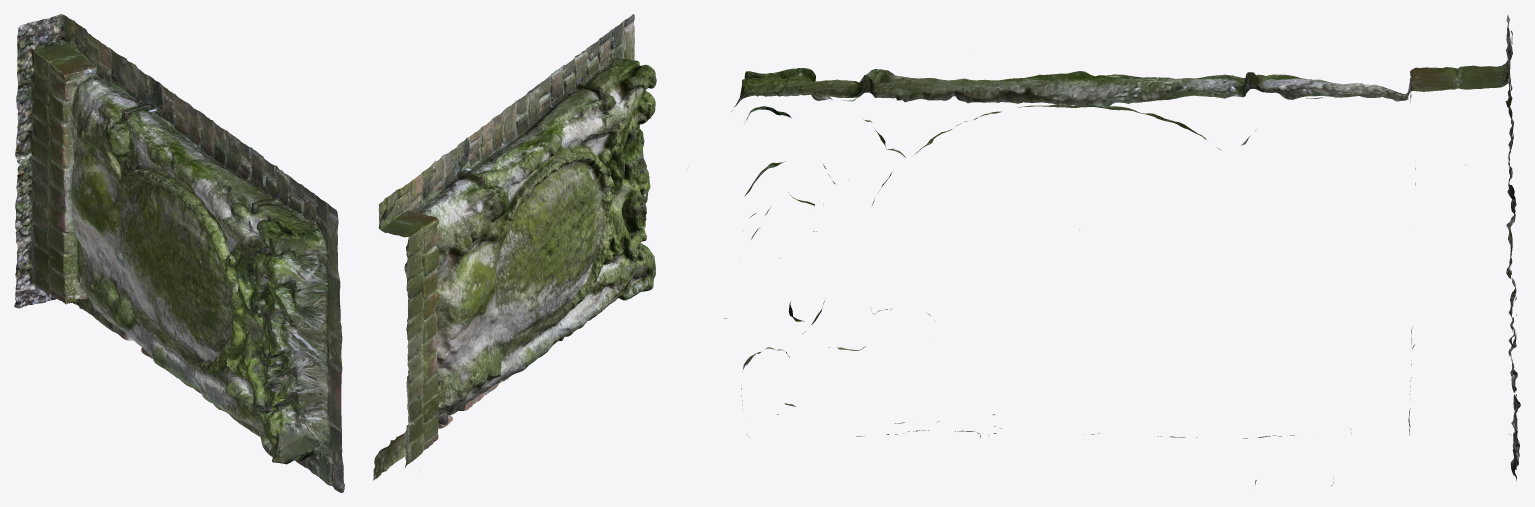
The model's file is stone_tablet_i.glb.
3 views of the same model, side by side, from view 1: azimuth 30°, elevation 25°; view 2: azimuth 150°, elevation 25°; view 3: azimuth 270°, elevation 25° (orthographic). The views are drawn at different scales.
Visible parts, largest first — view 1: default; view 2: default; view 3: default.
Boxes of the visible parts, x1=… form: default: x1=14, y1=14, x2=344, y2=492; default: x1=373, y1=14, x2=656, y2=480; default: x1=687, y1=15, x2=1520, y2=486.
Bounding box in the file's own units: 7.36 × 32.23 × 55.93.
1 material, 1 textured.
